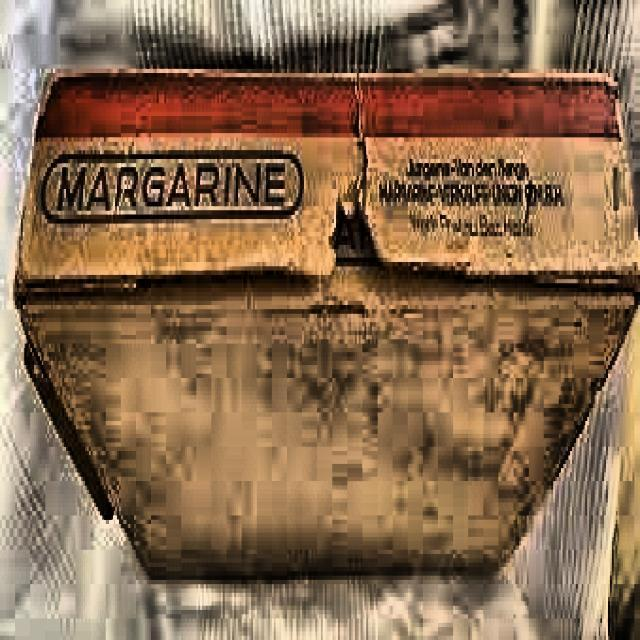cardboard: (13, 60, 638, 584)
